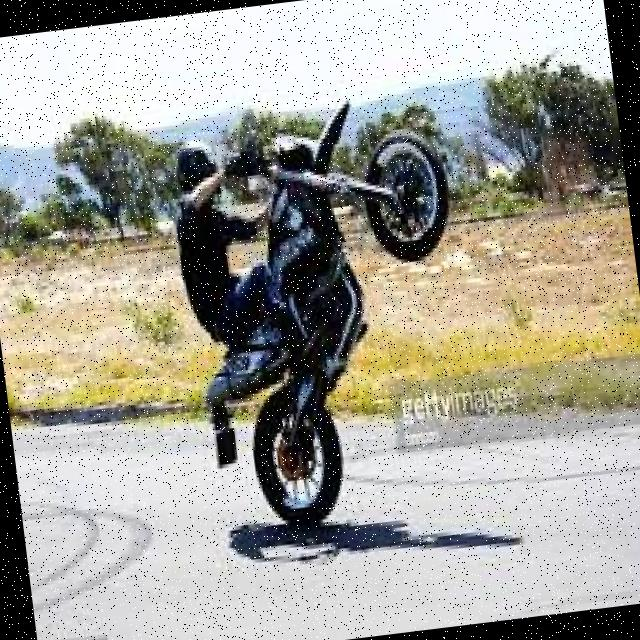Wheeling: (158, 100, 480, 528)
